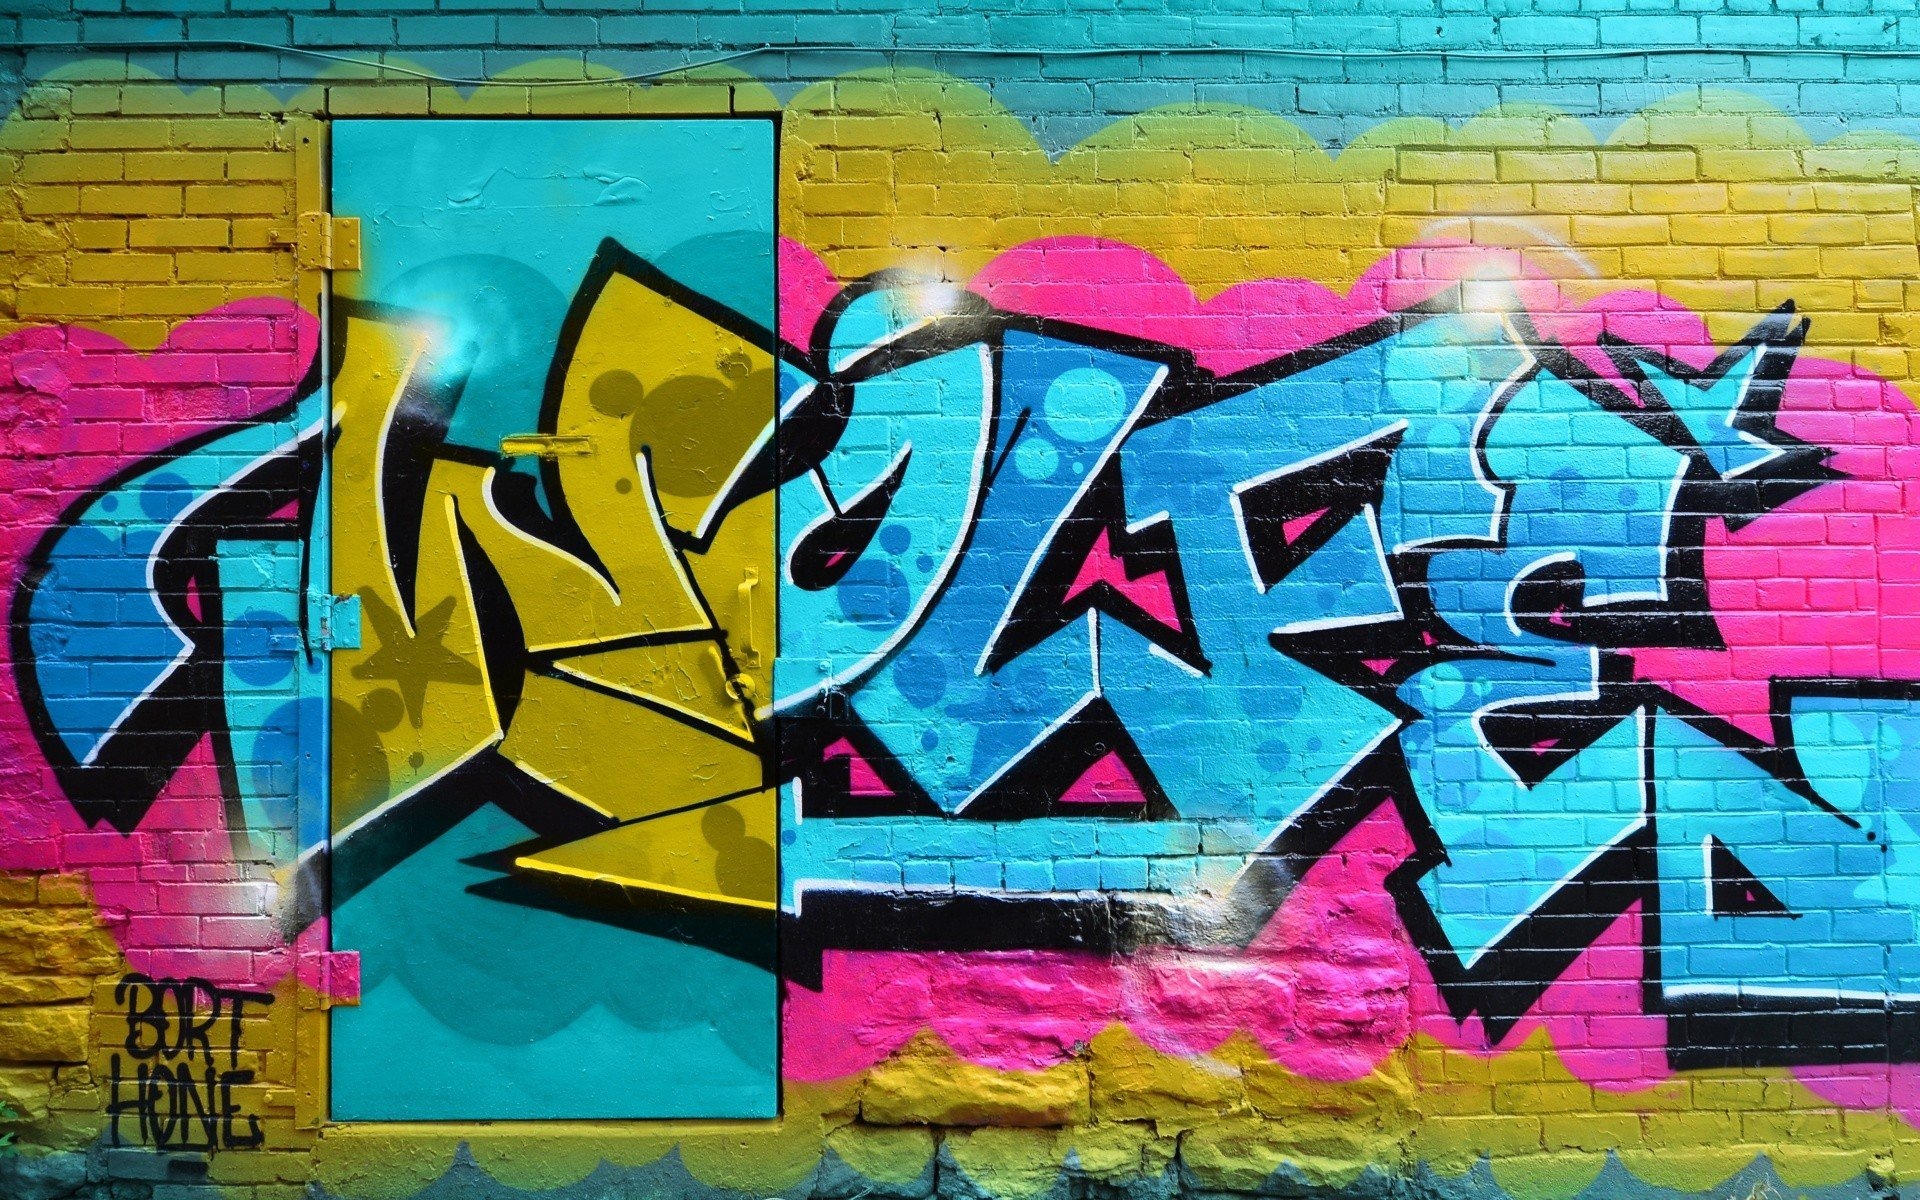graphite: (787, 254, 1920, 1094), (330, 119, 782, 1125), (8, 126, 344, 995), (106, 975, 312, 1168)
